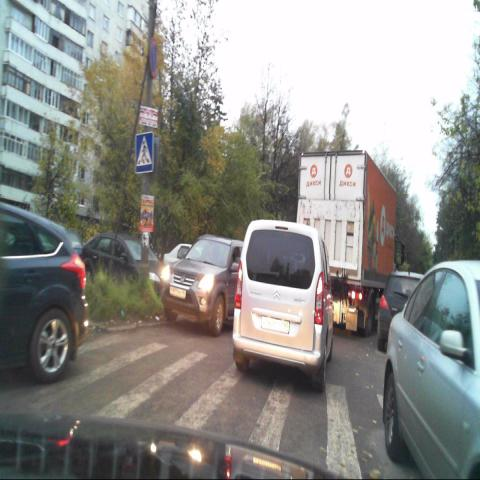3_28: (149, 38, 157, 80)
5_19_1: (136, 131, 154, 173)
